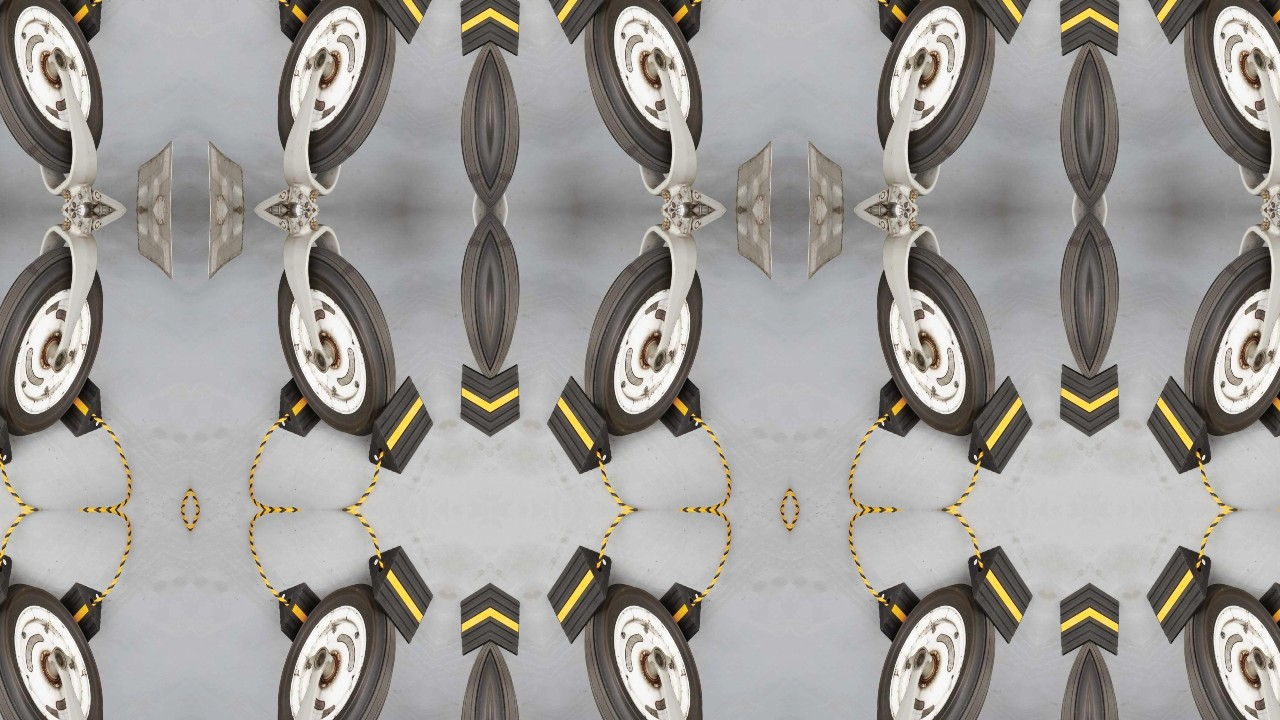chock: (351, 372, 443, 481), (537, 372, 629, 481), (951, 372, 1043, 481), (1137, 372, 1229, 481), (351, 539, 443, 648), (537, 539, 629, 648), (951, 539, 1043, 648), (1137, 539, 1229, 648), (29, 355, 114, 444), (266, 355, 351, 444), (629, 355, 714, 444), (866, 355, 951, 444), (29, 576, 114, 665), (266, 576, 351, 665), (629, 576, 714, 665), (866, 576, 951, 665), (29, 0, 114, 65), (266, 0, 351, 65), (629, 0, 714, 65), (866, 0, 951, 65), (1229, 355, 1280, 444), (1229, 576, 1280, 665), (449, 351, 490, 460), (490, 351, 531, 460), (1049, 351, 1090, 460), (1090, 351, 1131, 460), (449, 560, 490, 669), (490, 560, 531, 669), (1049, 560, 1090, 669), (1090, 560, 1131, 669), (351, 0, 443, 48), (537, 0, 629, 48), (951, 0, 1043, 48), (1137, 0, 1229, 48), (1229, 0, 1280, 65), (0, 372, 29, 481), (0, 539, 29, 648), (449, 0, 490, 69), (490, 0, 531, 69), (1049, 0, 1090, 69), (1090, 0, 1131, 69), (0, 0, 29, 48)
wheel: (262, 237, 407, 447), (573, 237, 718, 447), (862, 237, 1007, 447), (262, 0, 407, 183), (573, 0, 718, 183), (862, 0, 1007, 183), (0, 237, 118, 447), (1173, 237, 1280, 447), (0, 0, 118, 183), (262, 573, 407, 720), (573, 573, 718, 720), (862, 573, 1007, 720), (1173, 0, 1280, 183), (0, 573, 118, 720), (1173, 573, 1280, 720)
